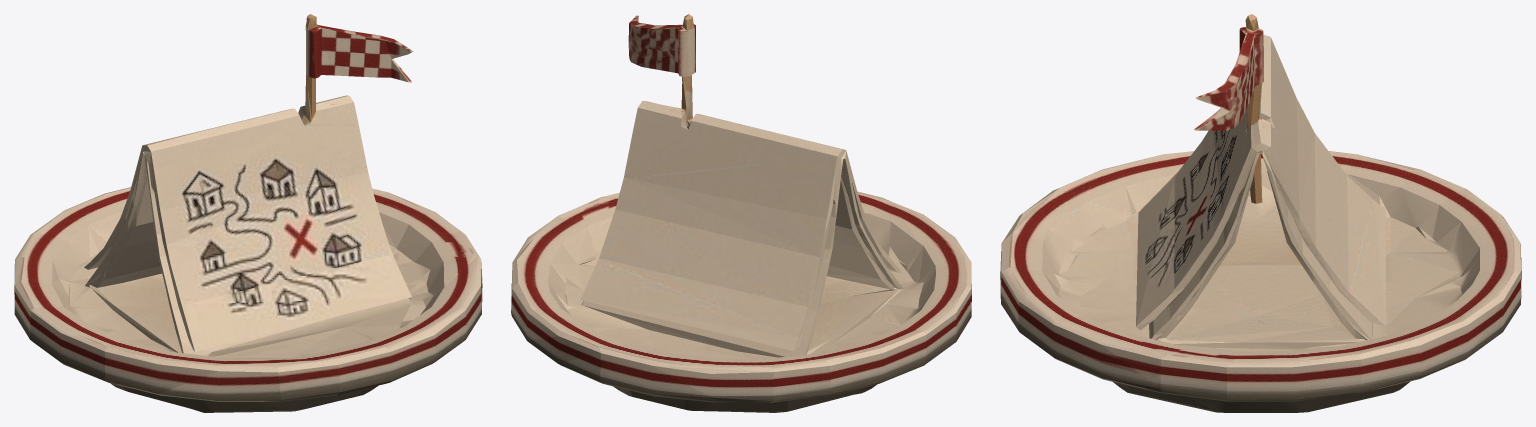
The model's file is adventure_plate.glb.
The picture shows the model from 3 angles, left to right: view 1: azimuth 30°, elevation 25°; view 2: azimuth 150°, elevation 25°; view 3: azimuth 270°, elevation 25°; orthographic projection. The views are drawn at different scales.
Size of the model in its own units: 1.89 by 1.42 by 1.89.
Materials: 1 (1 with a texture image).
